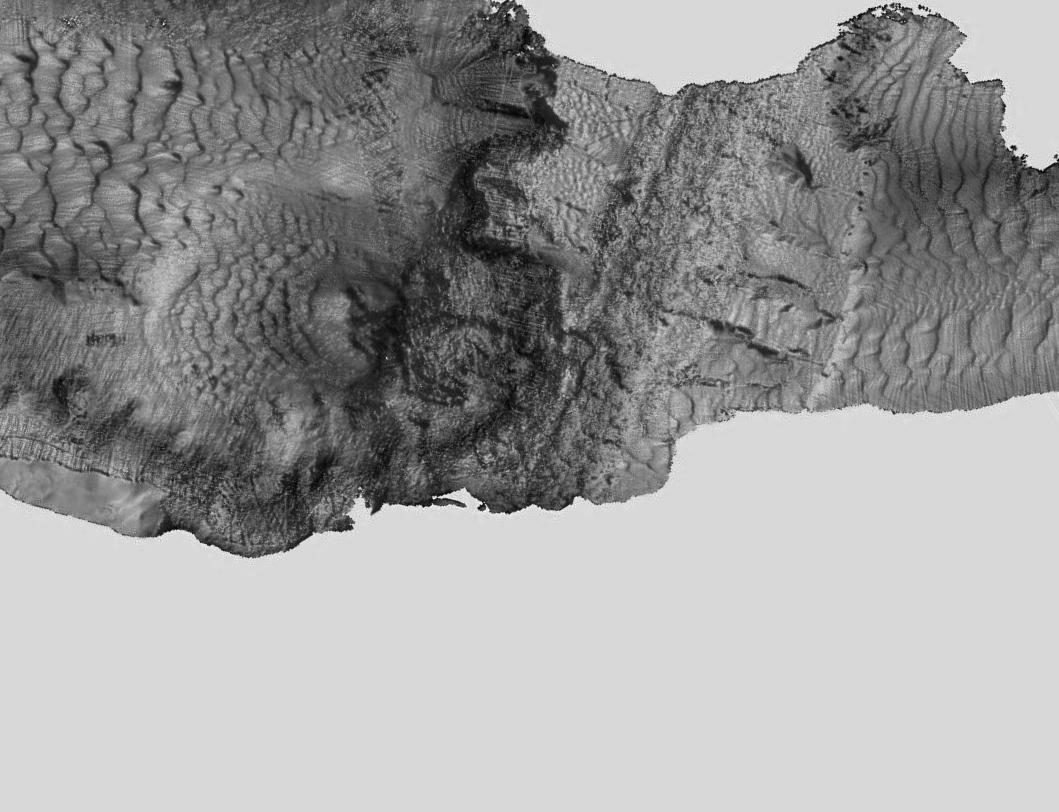Dune: (10, 48, 261, 278), (858, 311, 1042, 393), (882, 73, 982, 215)
Scarp: (154, 419, 523, 562)
Scour pit: (285, 234, 428, 397)
Submerged dike: (598, 210, 724, 354), (615, 94, 765, 207), (550, 353, 660, 478)
